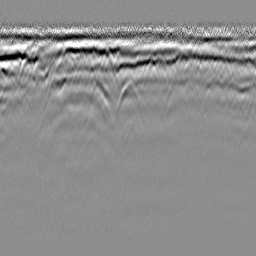cavity: (113, 77, 144, 126)
